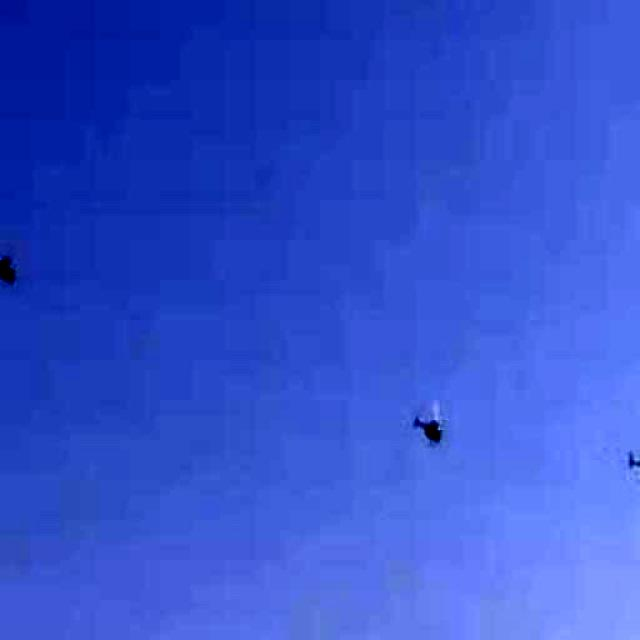drone: (396, 374, 460, 464), (0, 221, 34, 298), (610, 439, 640, 495)
